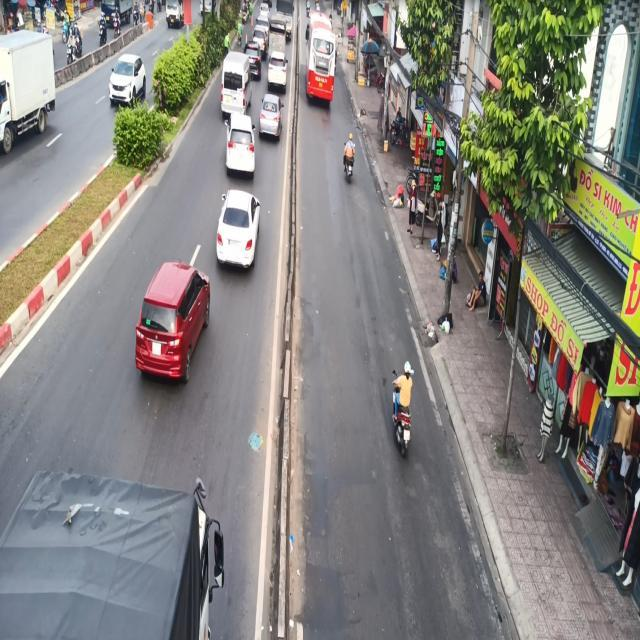car: (134, 260, 210, 383), (215, 188, 261, 270), (107, 53, 146, 106)
motorcycle: (342, 153, 354, 182)
person: (391, 360, 415, 425), (342, 132, 355, 174)
truck: (4, 461, 238, 640), (0, 28, 56, 154), (222, 112, 262, 180)
